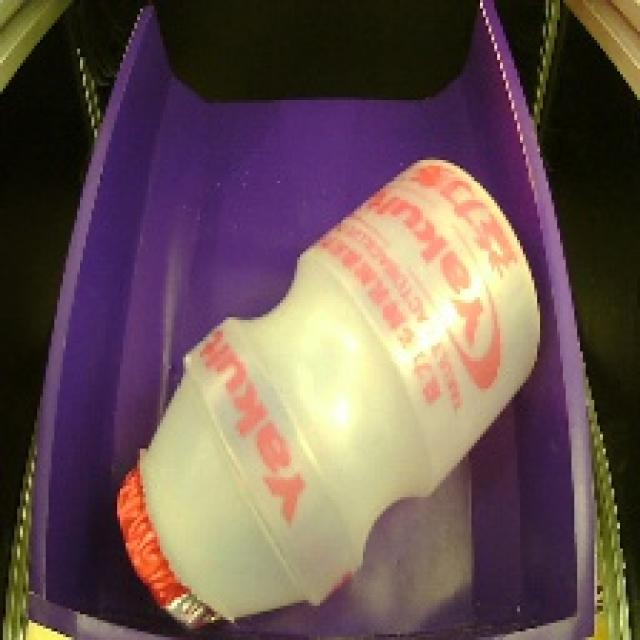plastic: (90, 140, 559, 640)
